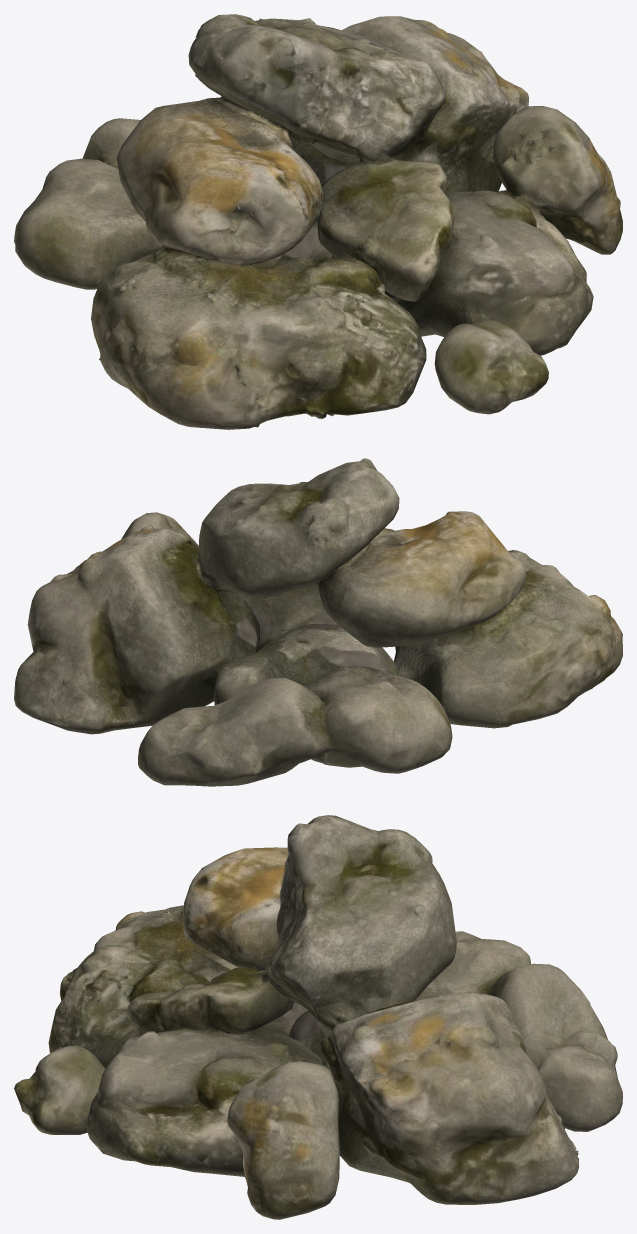
Rendered from prop_rock.glb.
3 renders of one model, top to bottom at view 1: azimuth 30°, elevation 25°; view 2: azimuth 150°, elevation 25°; view 3: azimuth 270°, elevation 25°, orthographic. The views are drawn at different scales.
Visible parts, largest first — view 1: Mesh_0; view 2: Mesh_0; view 3: Mesh_0.
Part boxes in pixels (bbox=[...]): Mesh_0: bbox=[14, 14, 622, 429]; Mesh_0: bbox=[14, 458, 622, 786]; Mesh_0: bbox=[14, 815, 622, 1219].
Bounding box in the file's own units: 1.83 × 0.9412 × 1.91.
1 material, 1 textured.
